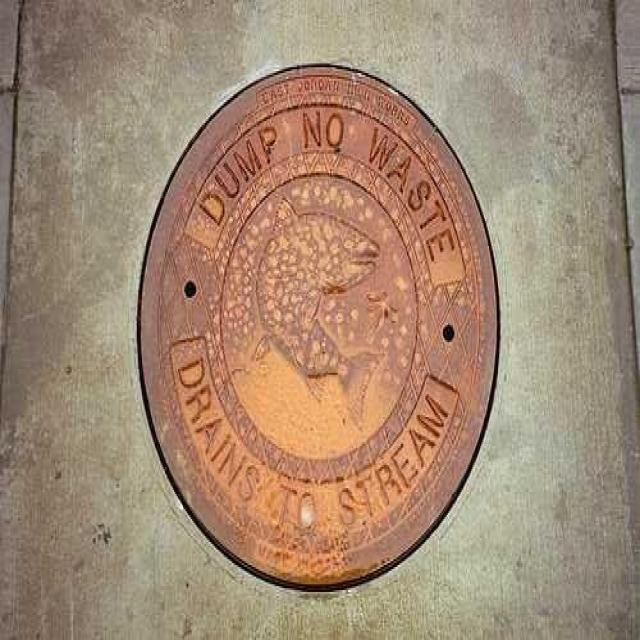manhole: (140, 68, 498, 587)
